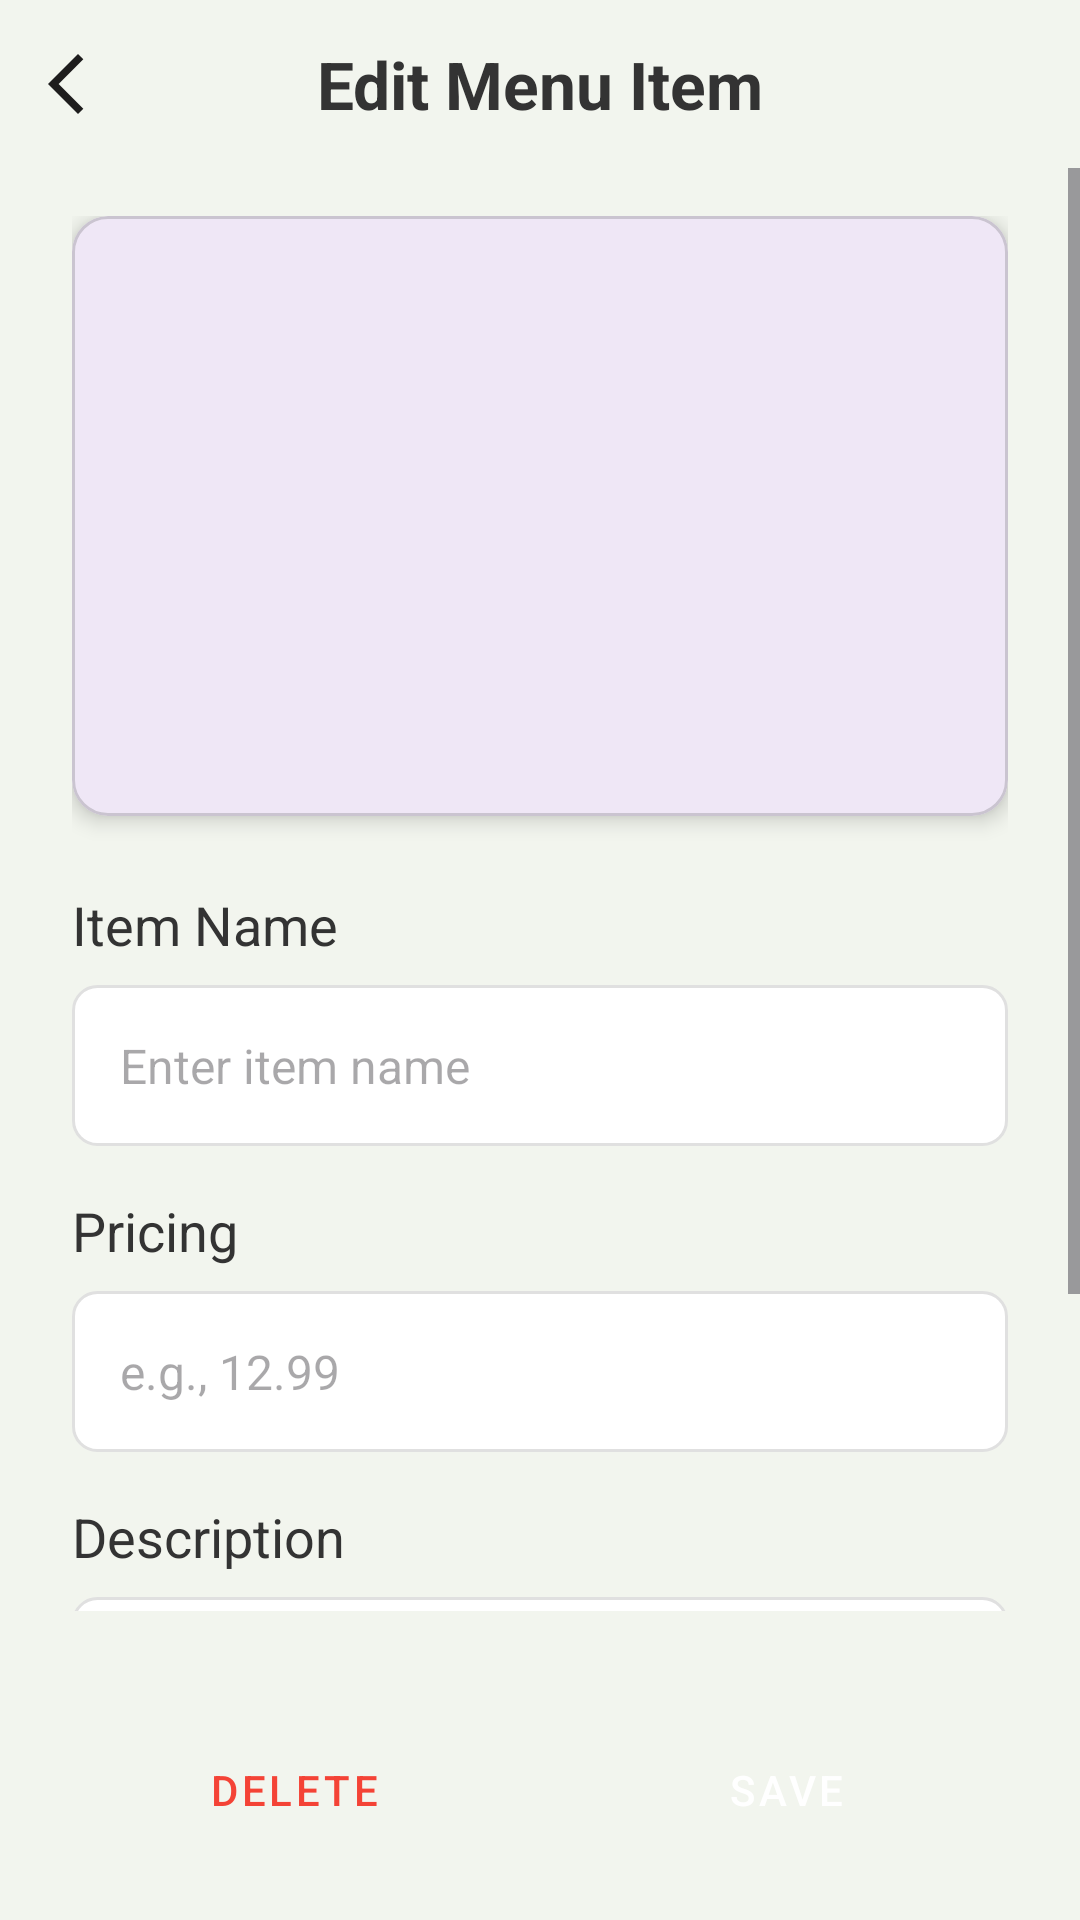

Where to tap for icons on this 1080x1920 app screen, as (x=x, y=y):
back: (x=65, y=84)
